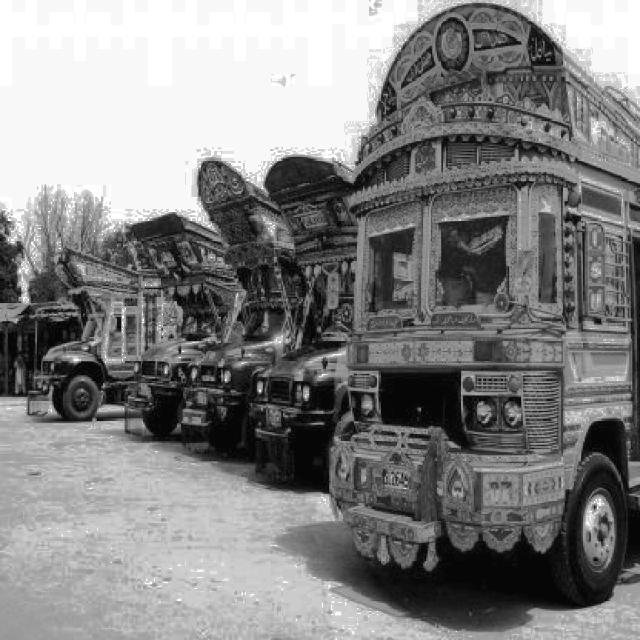HCV: (334, 85, 640, 608), (268, 124, 369, 500), (97, 205, 233, 444), (85, 248, 187, 476), (205, 154, 286, 440)
